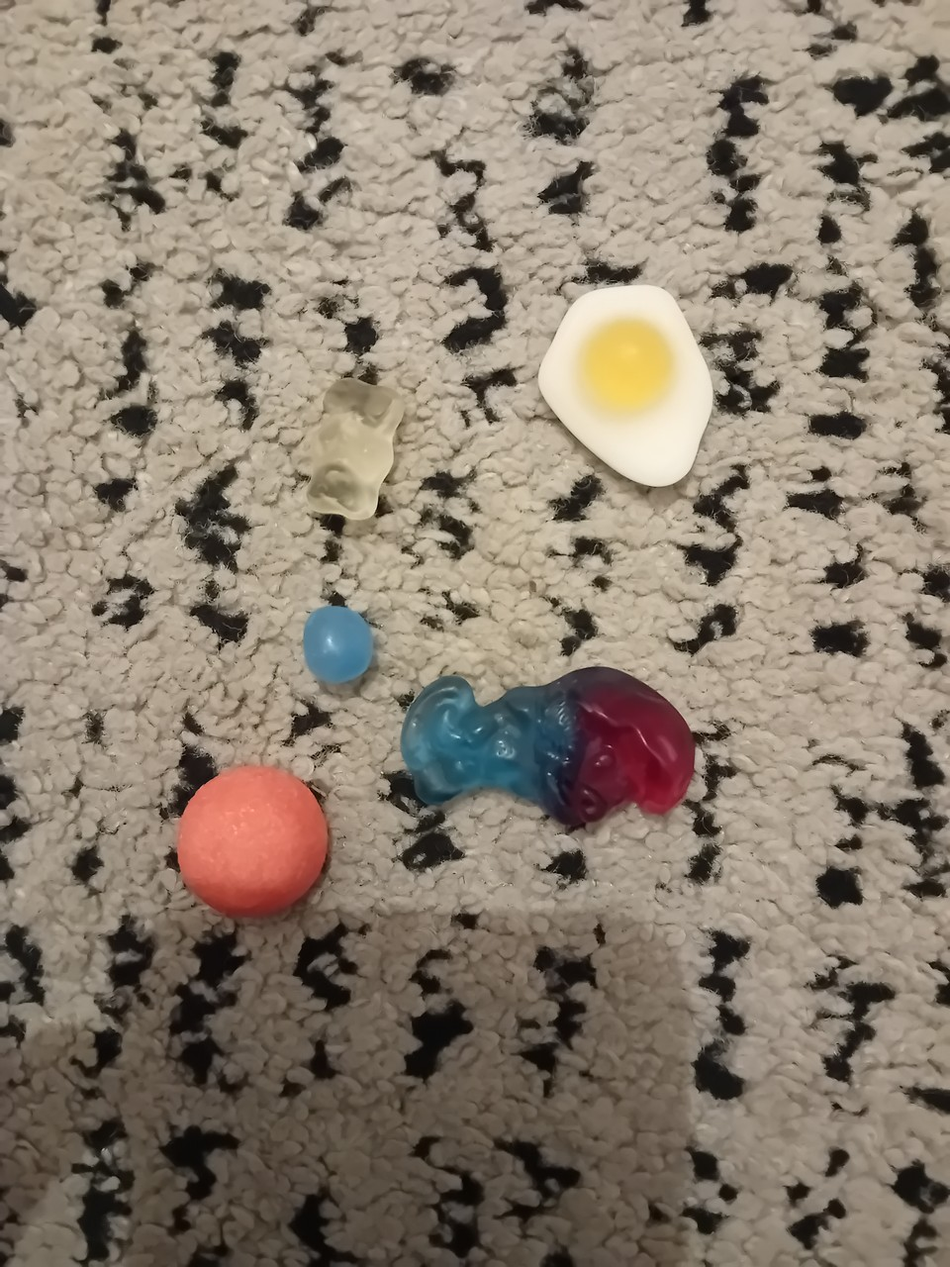dragibus_bleu: (295, 598, 381, 689)
oeuf_oeuf: (527, 274, 721, 497)
ourson_blanc: (299, 374, 412, 526)
schtroumpf_bleu-rouge: (392, 657, 702, 833)
tagada_fraise: (173, 756, 329, 923)
